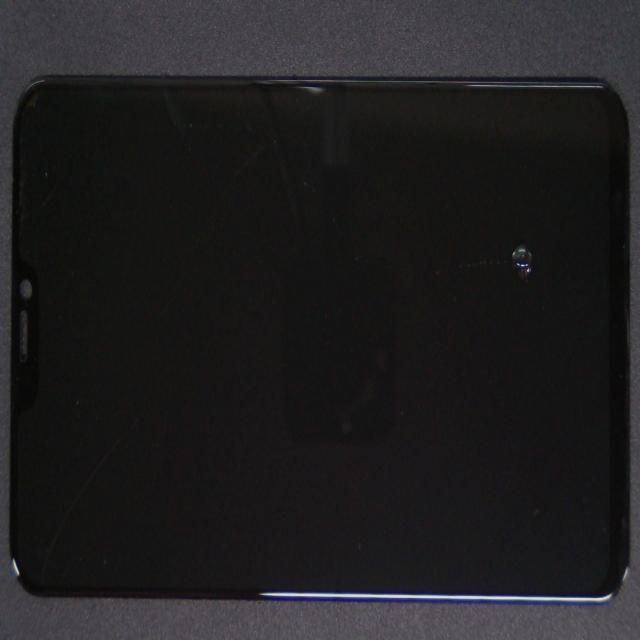oil: (280, 105, 640, 346)
